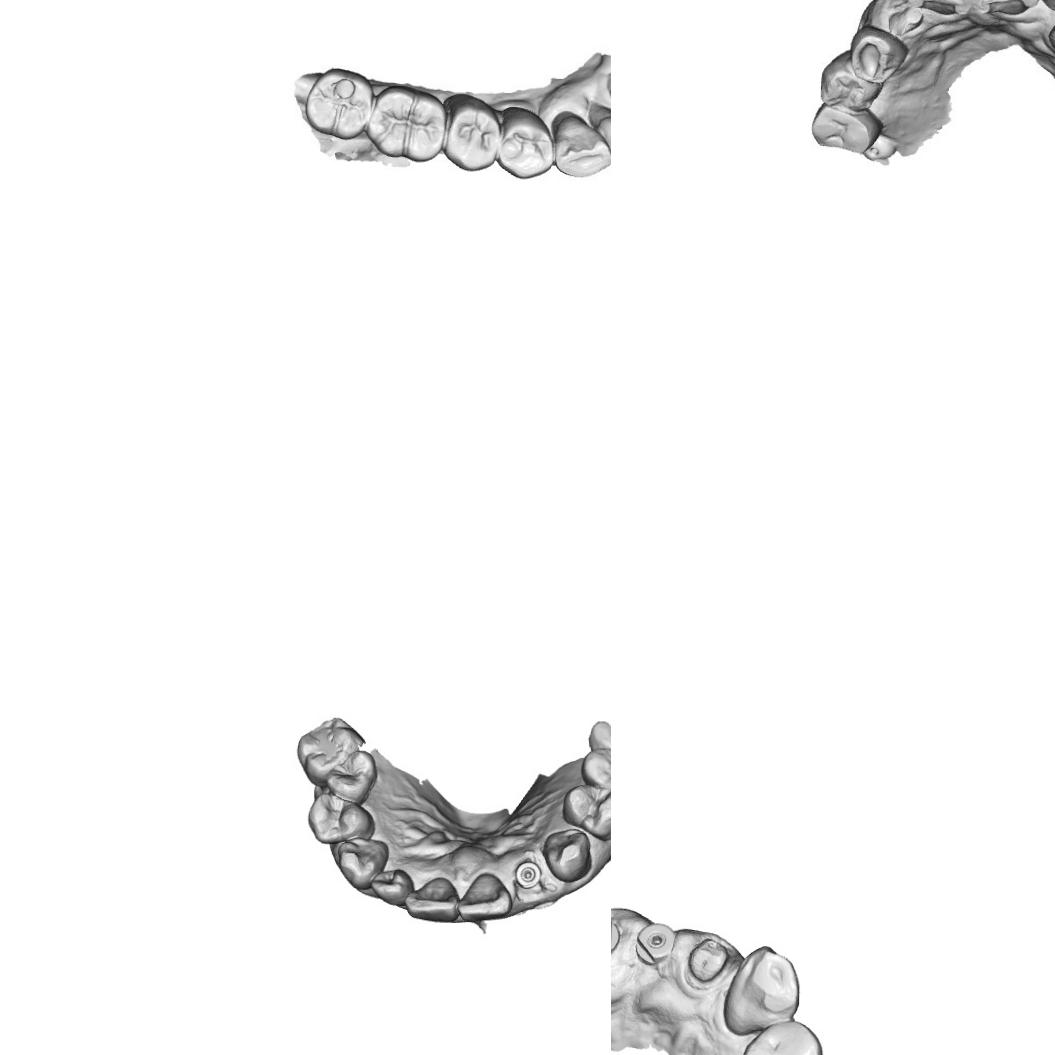canine: (720, 941, 804, 1036), (552, 108, 606, 184), (850, 24, 906, 84), (540, 826, 594, 884), (334, 836, 390, 890)
crown: (682, 934, 733, 986)
implant: (635, 920, 678, 962), (513, 858, 543, 891), (611, 912, 627, 962)
incisor: (456, 870, 514, 924), (404, 874, 460, 924), (370, 866, 414, 910), (592, 114, 611, 175), (968, 0, 1038, 14), (906, 0, 970, 13)
molar: (370, 90, 440, 160), (295, 715, 362, 784), (306, 67, 367, 137), (444, 98, 498, 170), (589, 720, 611, 766)
premolar: (306, 792, 376, 846), (810, 102, 879, 154), (819, 56, 877, 114), (322, 748, 380, 804), (502, 115, 552, 176), (560, 783, 611, 842), (738, 1020, 823, 1055), (579, 746, 611, 802)
